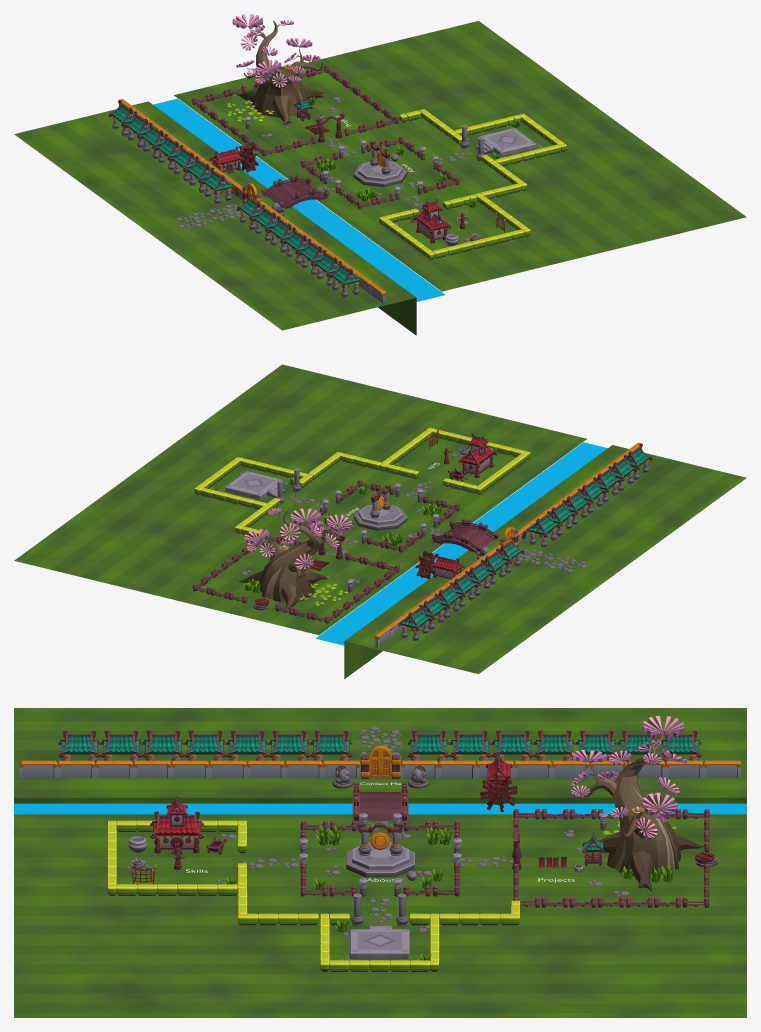
The picture shows the model from 3 angles, top to bottom: view 1: azimuth 30°, elevation 25°; view 2: azimuth 150°, elevation 25°; view 3: azimuth 270°, elevation 25°; orthographic projection. The views are drawn at different scales.
Parts seen in each view (by area): view 1: Level, gong; view 2: Level, gong; view 3: Level, gong, statue_frog.
Boxes of the visible parts, x1=… form: Level: x1=14, y1=14, x2=746, y2=335; gong: x1=353, y1=141, x2=407, y2=186; Level: x1=14, y1=364, x2=746, y2=678; gong: x1=353, y1=484, x2=407, y2=530; Level: x1=14, y1=708, x2=746, y2=1017; gong: x1=346, y1=822, x2=414, y2=877; statue_frog: x1=332, y1=768, x2=428, y2=788.
Size of what is drawn, in the model's own units: 64 by 16.56 by 64.
6 materials, 4 textured.
